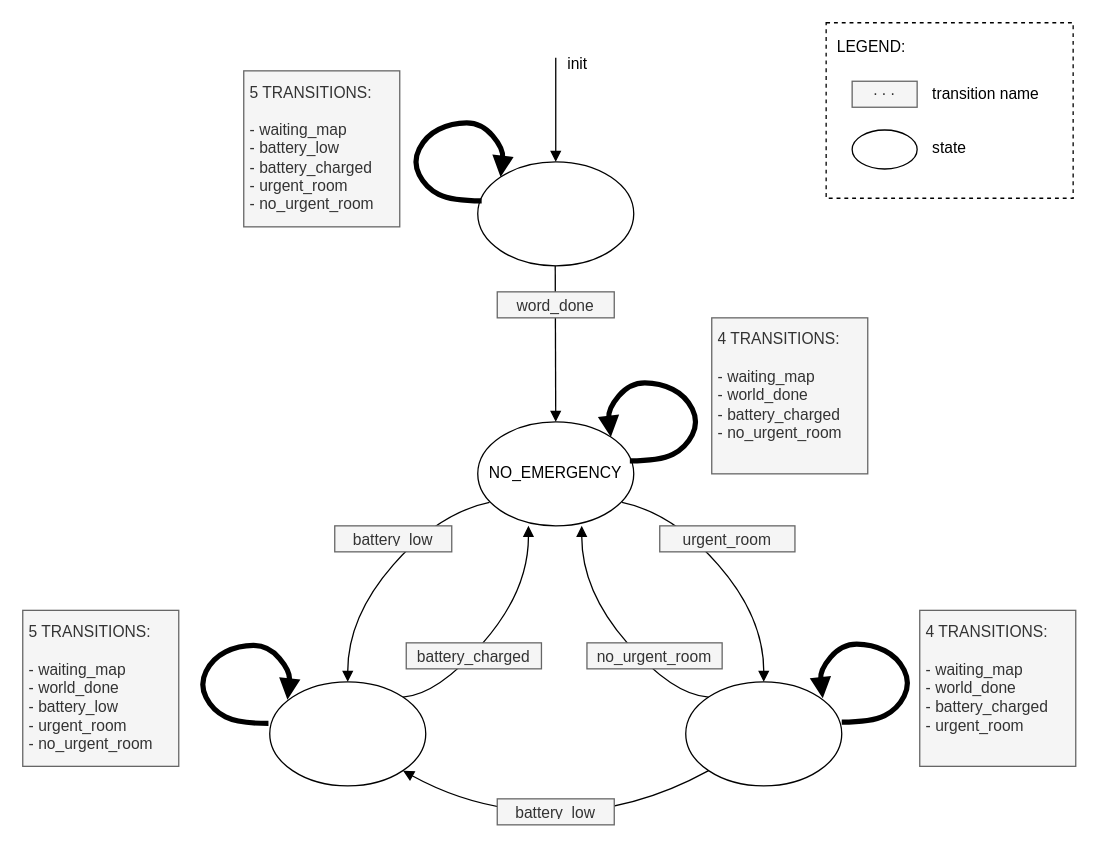
Some shapes in this 1099 by 848 pixel diagram are drawn without their labels. The centre of each missing label's shape, as x and y in pixels:
BUILD_WORLD: [555,213]
RECHARGING: [347,733]
SURVEILLANCE: [763,733]
